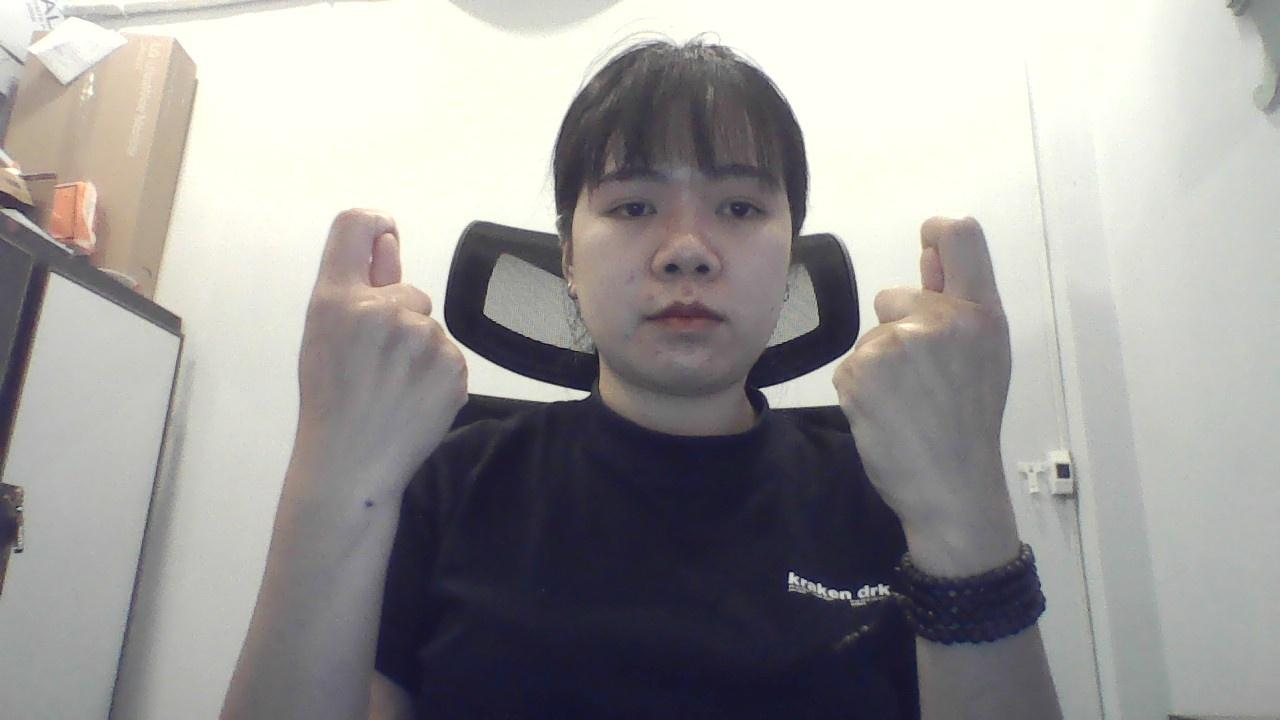X: (825, 214, 1051, 540), (289, 196, 473, 520)
